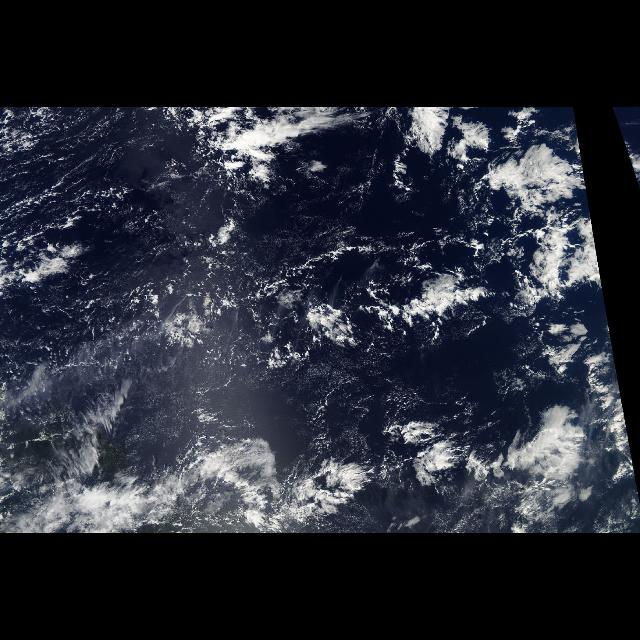Flower: (381, 107, 627, 533), (612, 108, 628, 150)
Gravel: (3, 122, 391, 454)
Sugar: (2, 326, 410, 472), (2, 107, 192, 309)
